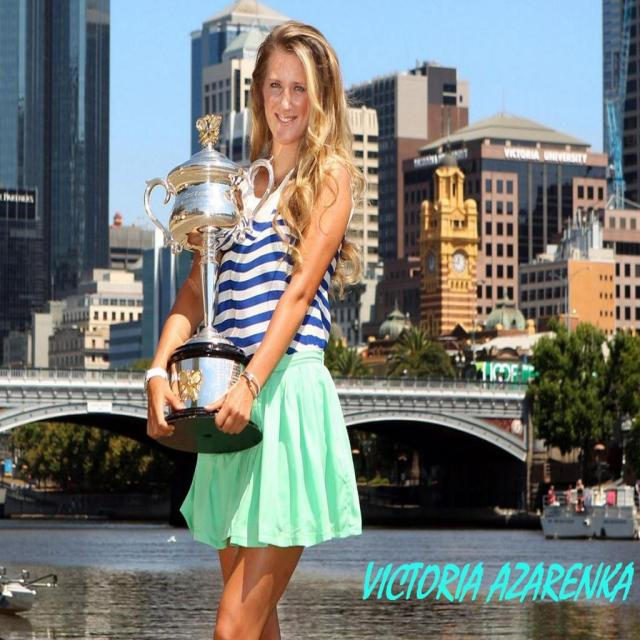Face: (256, 40, 325, 147)
